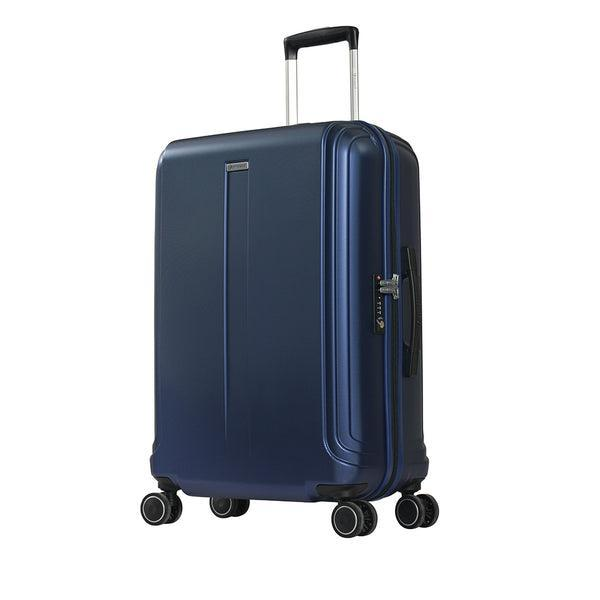suitcase: (147, 114, 442, 517)
